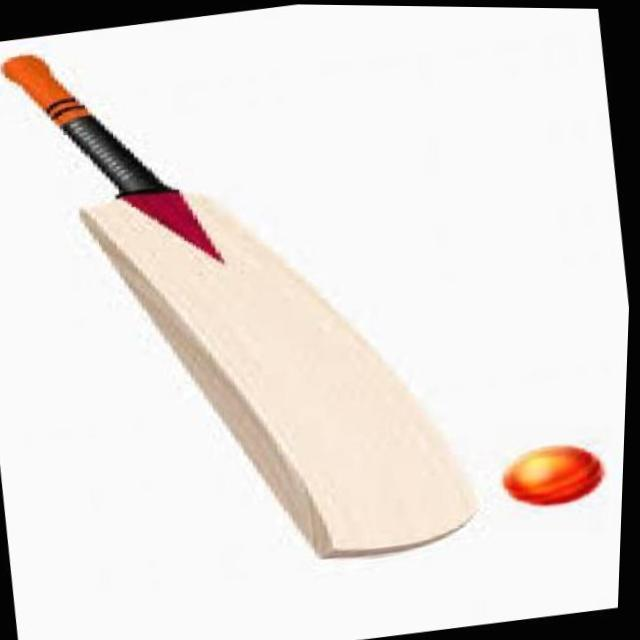-: (496, 423, 615, 530)
